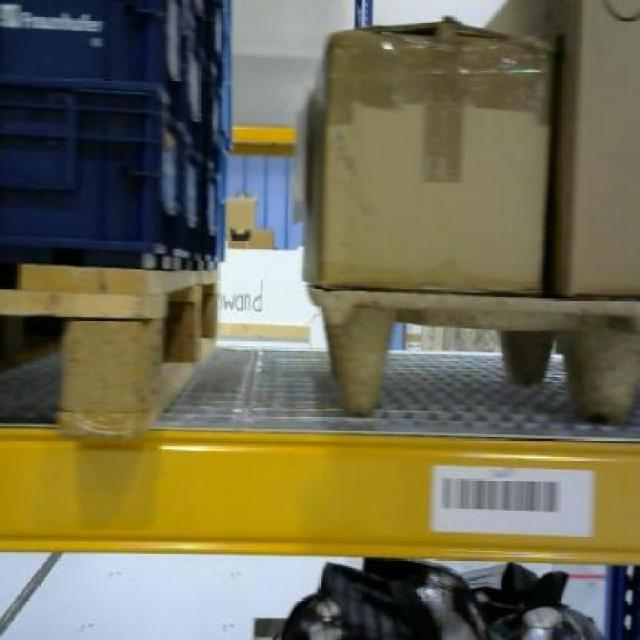box: (307, 22, 550, 293), (549, 0, 637, 297)
